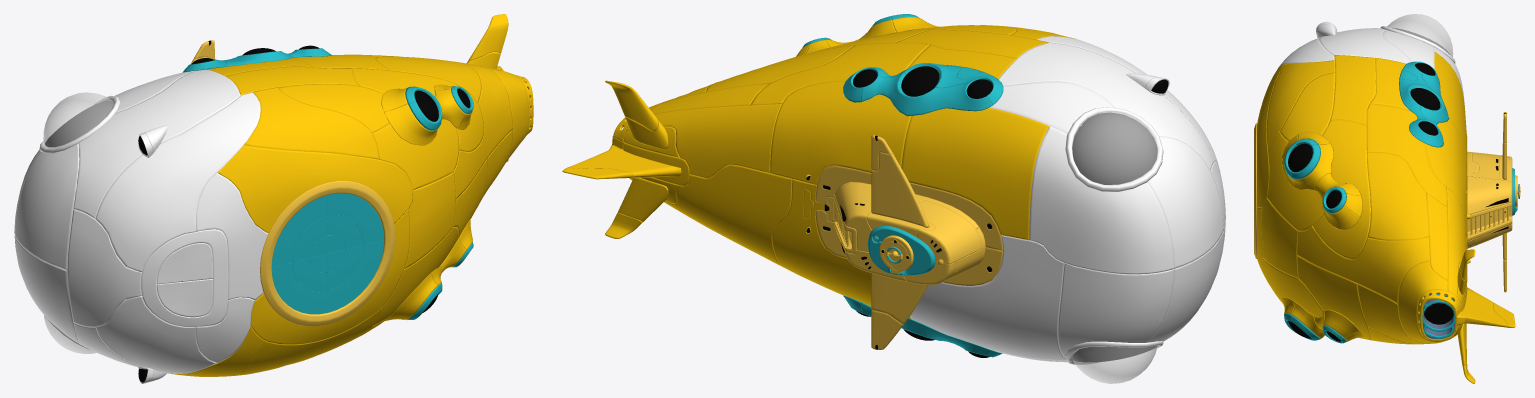
The model's file is SUBMARINE_UI.fbx.
The picture shows the model from 3 angles, left to right: view 1: azimuth 30°, elevation 25°; view 2: azimuth 150°, elevation 25°; view 3: azimuth 270°, elevation 25°; orthographic projection. The views are drawn at different scales.
Visible parts, largest first — view 1: SUBMARINE_UI; view 2: SUBMARINE_UI; view 3: SUBMARINE_UI.
Part boxes in pixels (x1=…): SUBMARINE_UI: x1=14, y1=14, x2=533, y2=383; SUBMARINE_UI: x1=562, y1=14, x2=1225, y2=383; SUBMARINE_UI: x1=1254, y1=14, x2=1520, y2=383.
Size of the model in its own units: 5.42 by 2.62 by 2.65.
